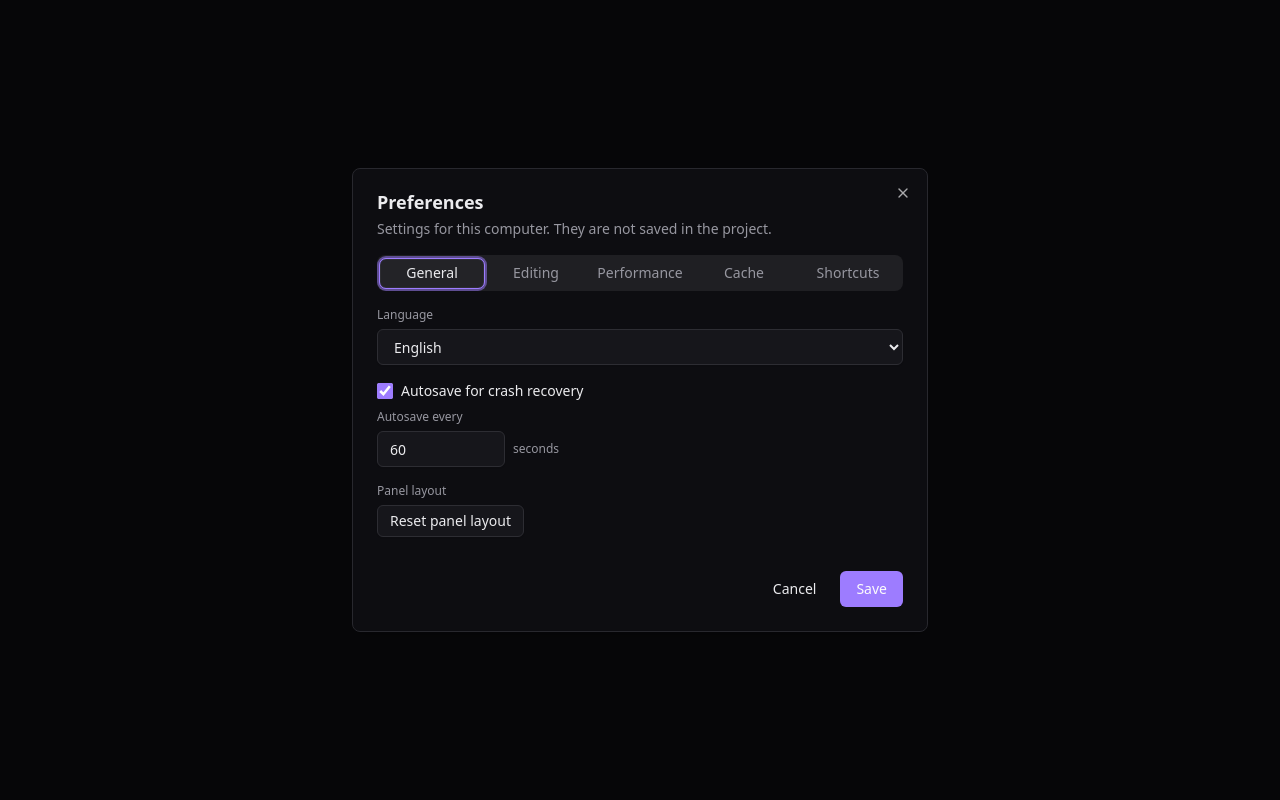
it: Cache tab › does nothing when the confirmation is cancelled
Press the mouse on the tab "Cache" at point(744, 273), box [692,258,796,288]
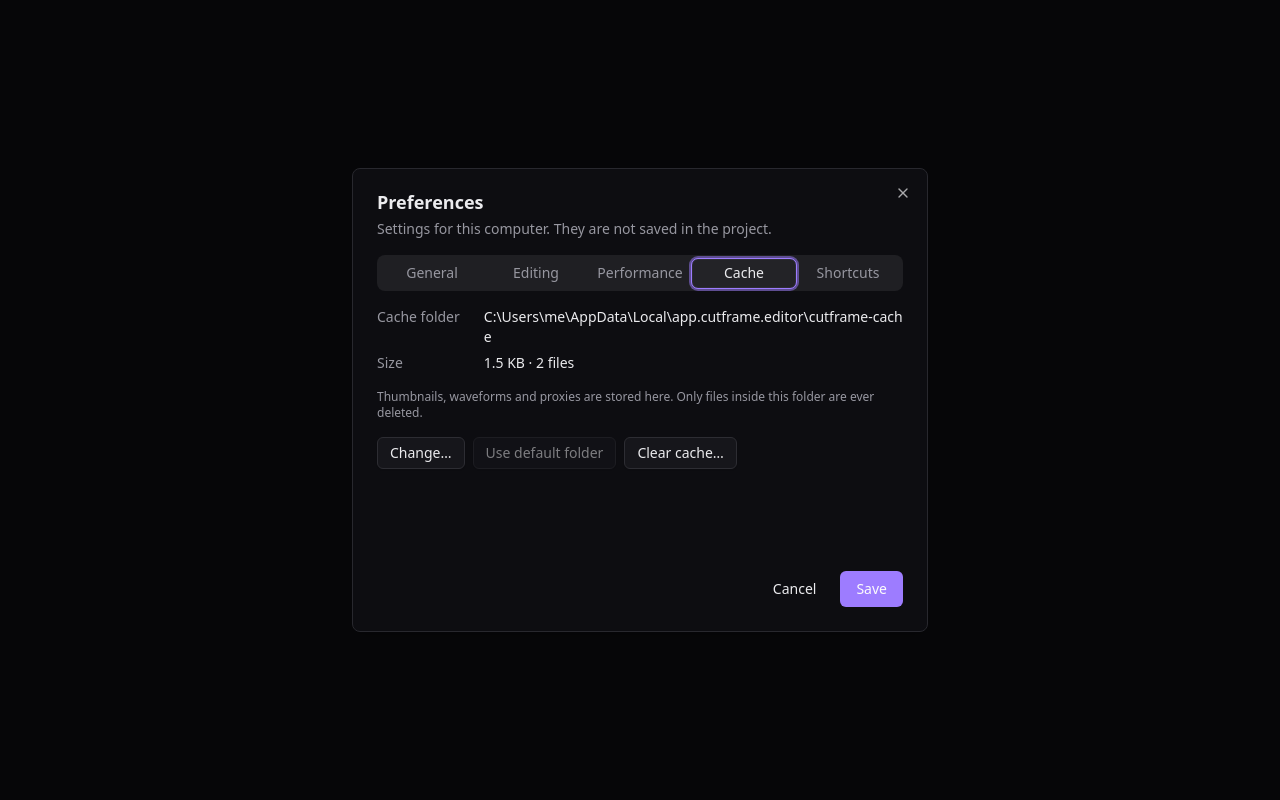
Click the button "Clear cache…". click: point(681, 453)
box: [624,437,737,469]
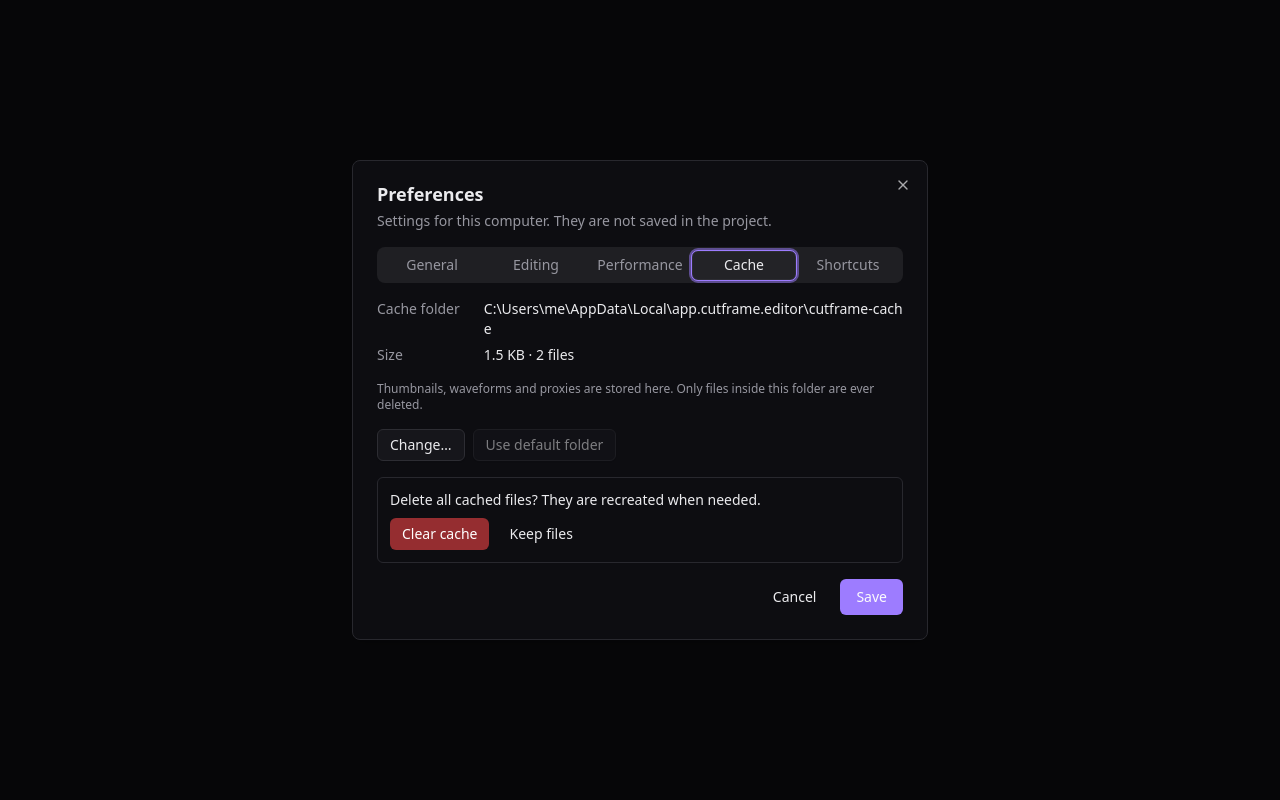
Click the button "Keep files". click: point(541, 534)
box: [498,518,585,550]
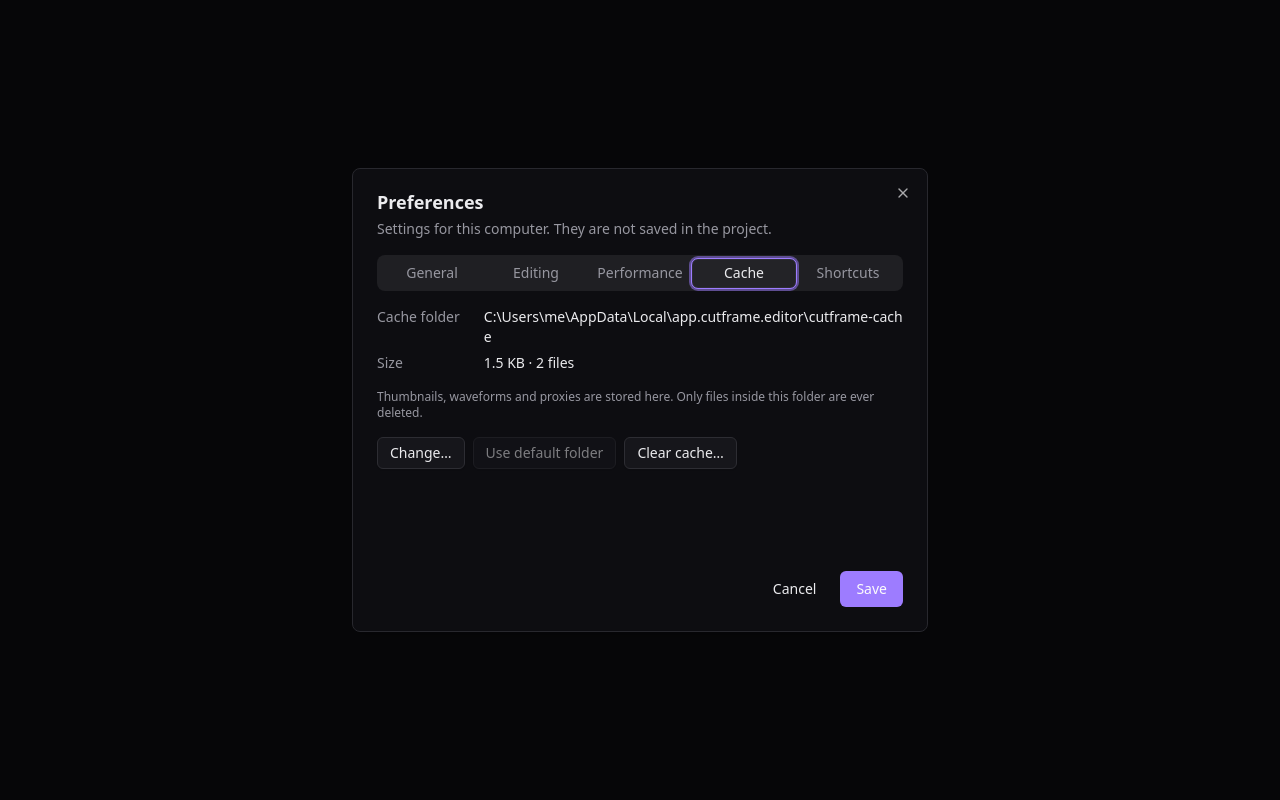
expect the button "Clear cache…" is shown: met, box [624,437,737,469]
